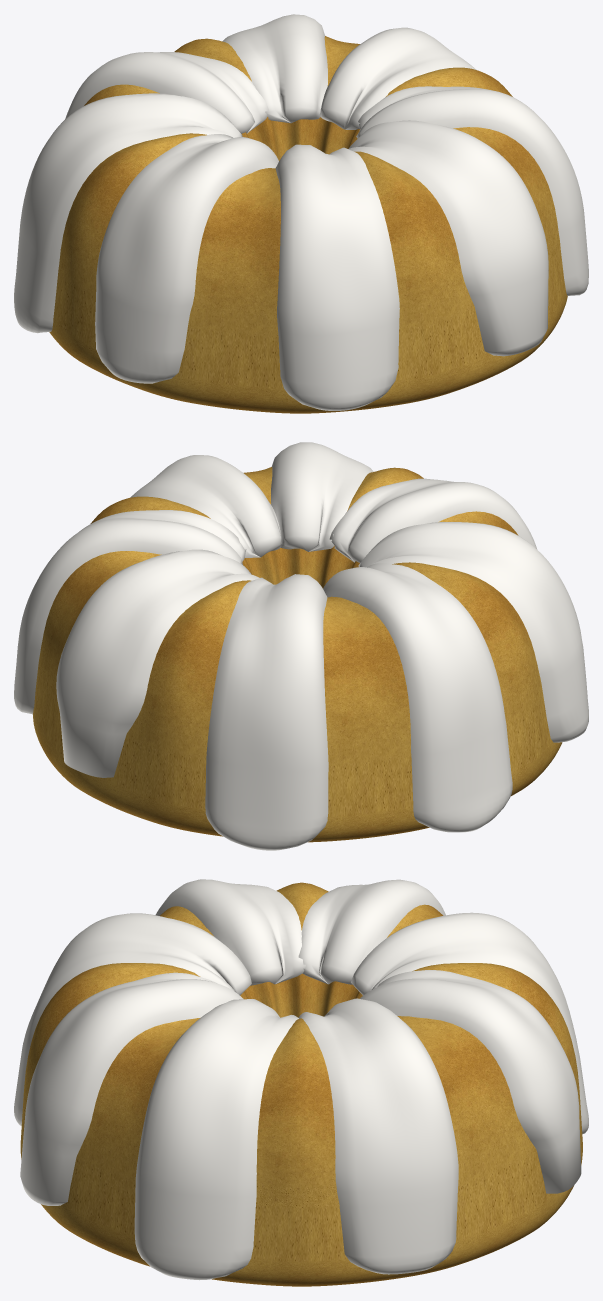
File: bundt_lemon_10.glb
3 views of the same model, one above another, from view 1: azimuth 30°, elevation 25°; view 2: azimuth 150°, elevation 25°; view 3: azimuth 270°, elevation 25° (orthographic). The views are drawn at different scales.
Parts seen in each view (by area): view 1: cake.001, frosting.005, frosting.004, frosting.006, frosting.003, frosting.007, frosting.001, frosting.002, frosting; view 2: cake.001, frosting.002, frosting.003, frosting.001, frosting.004, frosting, frosting.005, frosting.006, frosting.007; view 3: cake.001, frosting.007, frosting, frosting.006, frosting.001, frosting.005, frosting.002, frosting.004, frosting.003.
Boxes of the visible parts, <box> form: cake.001: <box>49,36,567,413</box>; frosting.005: <box>275,144,399,410</box>; frosting.004: <box>95,134,278,383</box>; frosting.006: <box>348,120,548,356</box>; frosting.003: <box>14,93,242,333</box>; frosting.007: <box>356,86,588,295</box>; frosting.001: <box>222,14,327,123</box>; frosting.002: <box>65,52,268,133</box>; frosting: <box>319,27,476,129</box>; cake.001: <box>33,467,562,842</box>; frosting.002: <box>205,574,328,850</box>; frosting.003: <box>323,563,512,832</box>; frosting.001: <box>56,549,259,777</box>; frosting.004: <box>358,522,588,742</box>; frosting: <box>14,510,246,714</box>; frosting.005: <box>329,478,537,562</box>; frosting.006: <box>271,442,373,551</box>; frosting.007: <box>130,455,281,557</box>; cake.001: <box>20,882,582,1286</box>; frosting.007: <box>134,999,298,1280</box>; frosting: <box>298,998,458,1274</box>; frosting.006: <box>20,972,243,1205</box>; frosting.001: <box>359,970,581,1193</box>; frosting.005: <box>14,913,251,1125</box>; frosting.002: <box>351,912,588,1134</box>; frosting.004: <box>155,879,305,985</box>; frosting.003: <box>298,879,445,984</box>.
Size of the model in its own units: 0.2674 by 0.1158 by 0.267.
2 materials, 1 textured.
